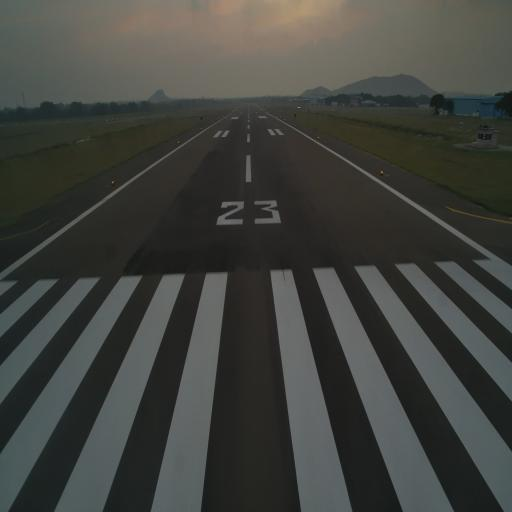on: (110, 177, 117, 187), (379, 167, 384, 177)
